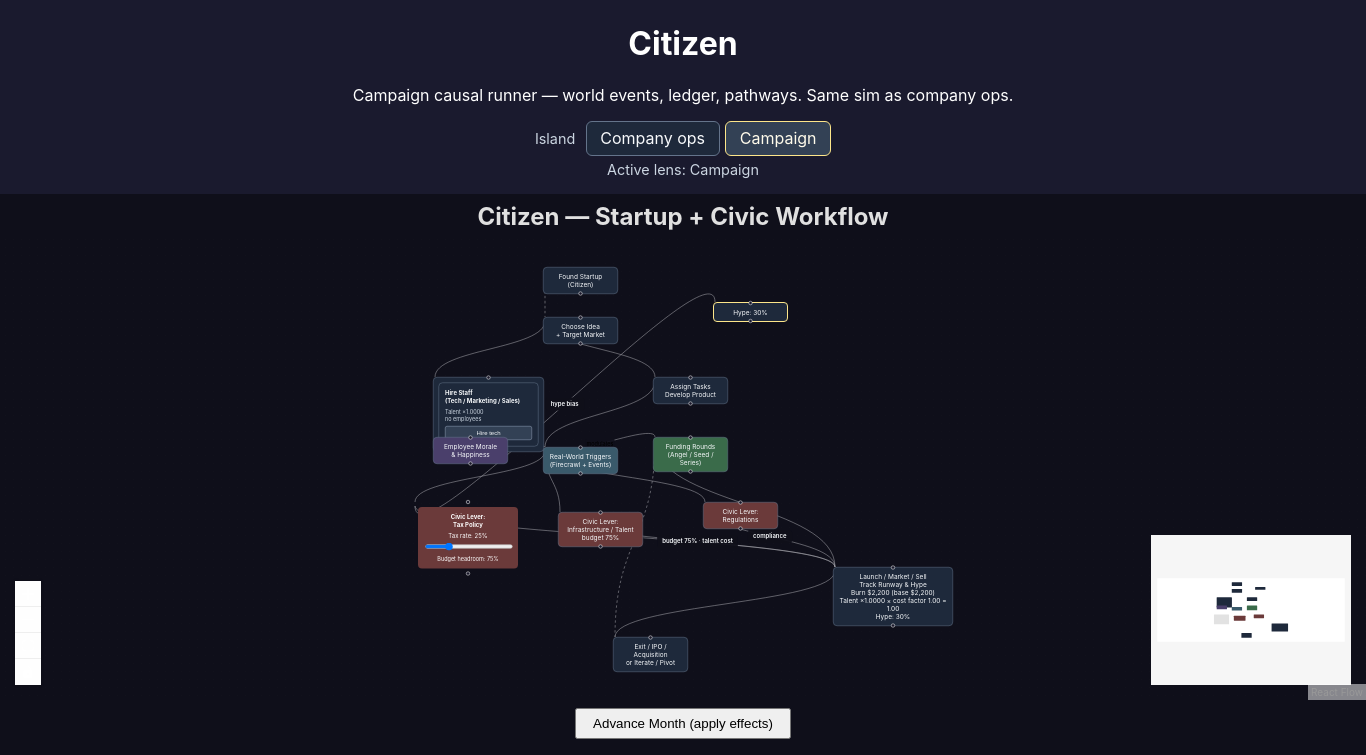
Test case: local-only play (no server campaign) › Advance Month still advances on the local engine
(d) 15000 − 2200/12 on the local engine, no network, no alert.
What coordinates should you click on to do the following:
click the button "Advance Month (apply effects)"
I would click on:
 (683, 724)
Its box is [575,708,791,739].
(page scrolled)
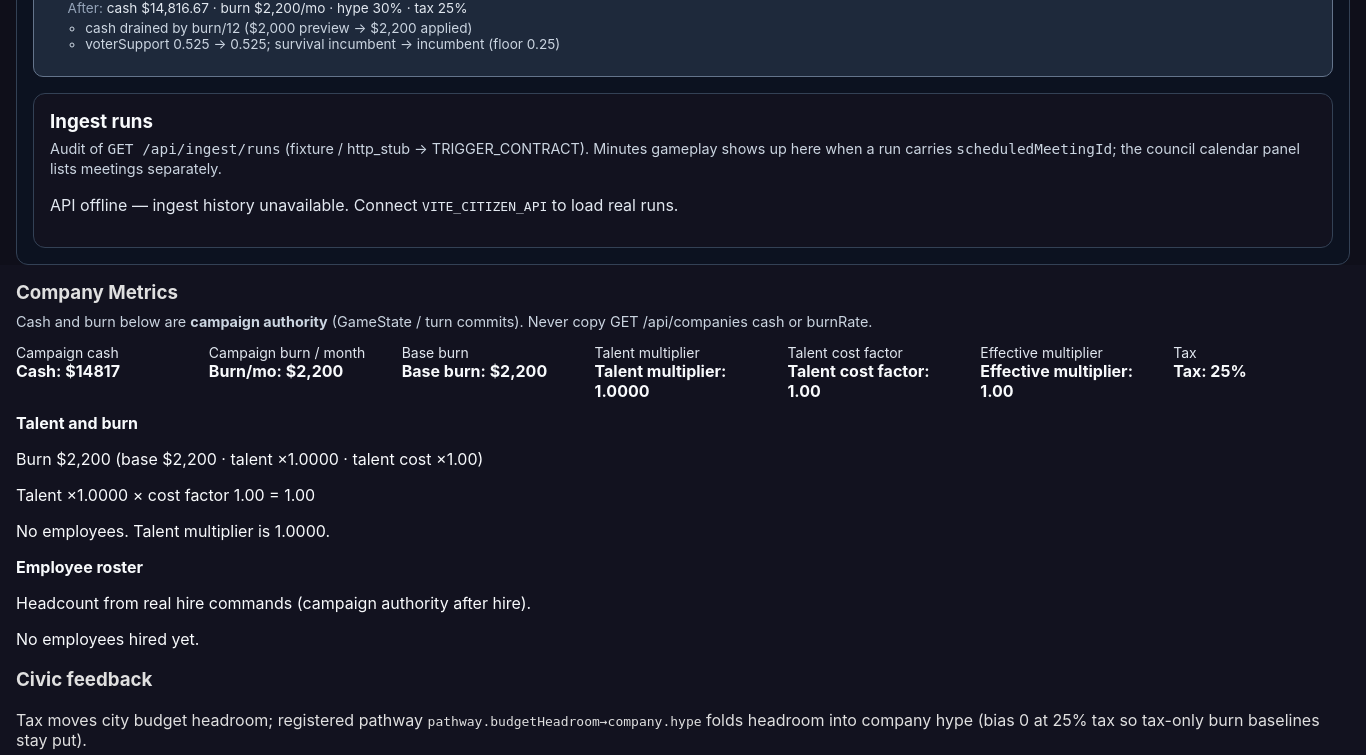
Expected: the text with test id "cash-value" reads "Cash: $14817", [16,361,120,381]
